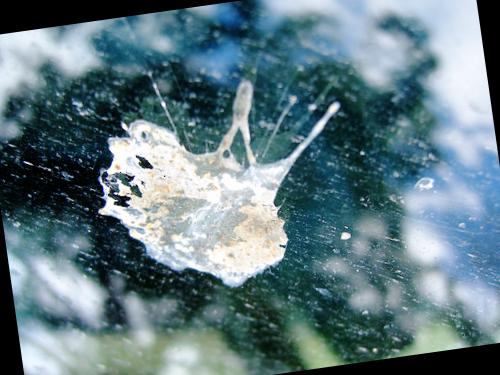Bird Poop: (100, 81, 339, 284)
